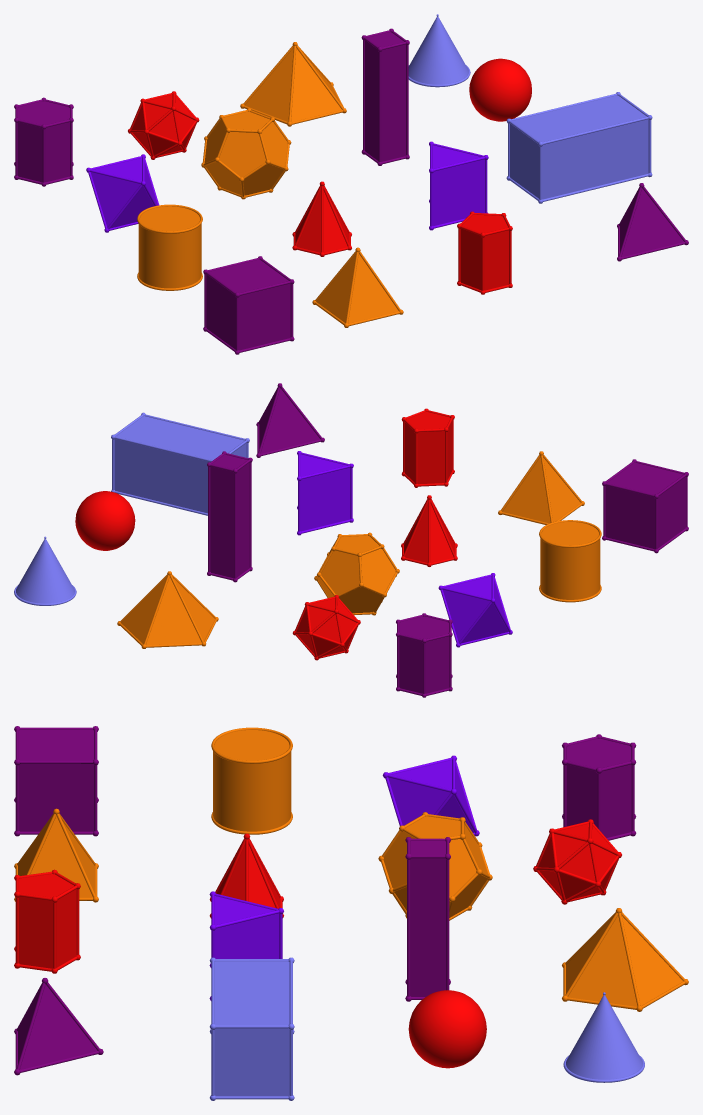
Rendered from basic.dae.
3 views of the same model, one above another, from view 1: azimuth 30°, elevation 25°; view 2: azimuth 150°, elevation 25°; view 3: azimuth 270°, elevation 25° (orthographic). The views are drawn at different scales.
Visible parts, largest first — view 1: face17, a_1, face20, h_1, faceABFE, face67, face61, v, face13, face1, faceIJZ, face2 (+26 smaller); view 2: face18, a_1, h_1, face20, faceCDHG, face68, face64, v, face5, face14, faceKLZ, faceADHE (+25 smaller); view 3: a_1, face19, face20, face63, h_1, faceBCGF, v, face15, face3, face69, face72, faceEFGH (+23 smaller).
Boxes of the visible parts, x1=… form: face17: x1=542, y1=119, x2=648, y2=199; a_1: x1=138, y1=224, x2=201, y2=288; face20: x1=512, y1=95, x2=646, y2=142; h_1: x1=469, y1=58, x2=531, y2=121; faceABFE: x1=238, y1=283, x2=290, y2=350; face67: x1=432, y1=159, x2=484, y2=225; face61: x1=381, y1=44, x2=405, y2=161; v: x1=408, y1=16, x2=468, y2=84; face13: x1=621, y1=188, x2=683, y2=256; face1: x1=291, y1=48, x2=341, y2=122; faceIJZ: x1=348, y1=254, x2=398, y2=323; face2: x1=245, y1=48, x2=293, y2=121; face18: x1=114, y1=439, x2=210, y2=513; a_1: x1=540, y1=538, x2=600, y2=599; h_1: x1=75, y1=491, x2=135, y2=550; face20: x1=116, y1=416, x2=244, y2=459; faceCDHG: x1=605, y1=485, x2=655, y2=548; face68: x1=300, y1=467, x2=350, y2=531; face64: x1=210, y1=466, x2=233, y2=578; v: x1=16, y1=538, x2=74, y2=603; face5: x1=146, y1=577, x2=201, y2=645; face14: x1=260, y1=388, x2=319, y2=453; faceKLZ: x1=502, y1=457, x2=550, y2=523; faceADHE: x1=657, y1=476, x2=685, y2=548; a_1: x1=213, y1=751, x2=291, y2=831; face19: x1=214, y1=1028, x2=289, y2=1096; face20: x1=214, y1=961, x2=289, y2=1025; face63: x1=410, y1=858, x2=445, y2=996; h_1: x1=408, y1=990, x2=486, y2=1068; faceBCGF: x1=19, y1=764, x2=93, y2=831; v: x1=566, y1=995, x2=642, y2=1079; face15: x1=20, y1=984, x2=97, y2=1069; face3: x1=568, y1=915, x2=637, y2=1006; face69: x1=214, y1=913, x2=279, y2=958; face72: x1=19, y1=896, x2=52, y2=968; faceEFGH: x1=19, y1=730, x2=93, y2=760.
Bounding box in the file's own units: 9.09 × 8.63 × 2.09.
